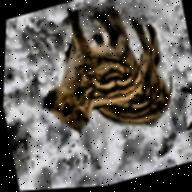boar: (20, 0, 184, 157)
